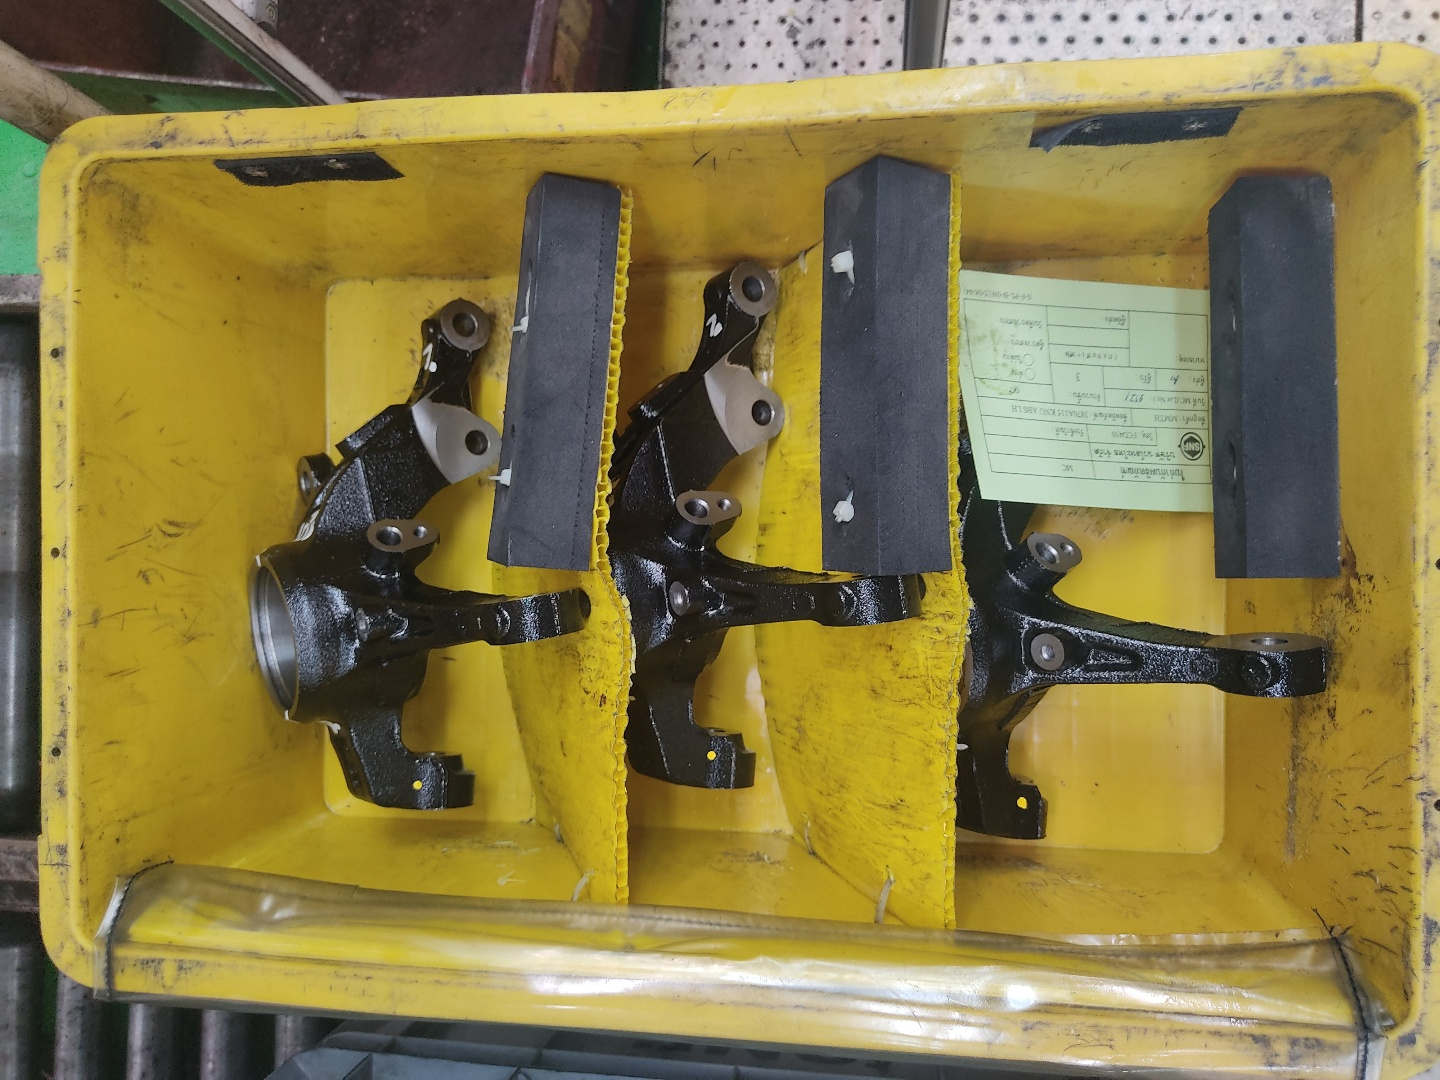abs-lh: (939, 241, 1342, 859), (235, 292, 599, 825), (603, 252, 929, 805)
